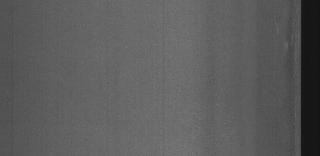silk spot: (273, 8, 299, 54)
